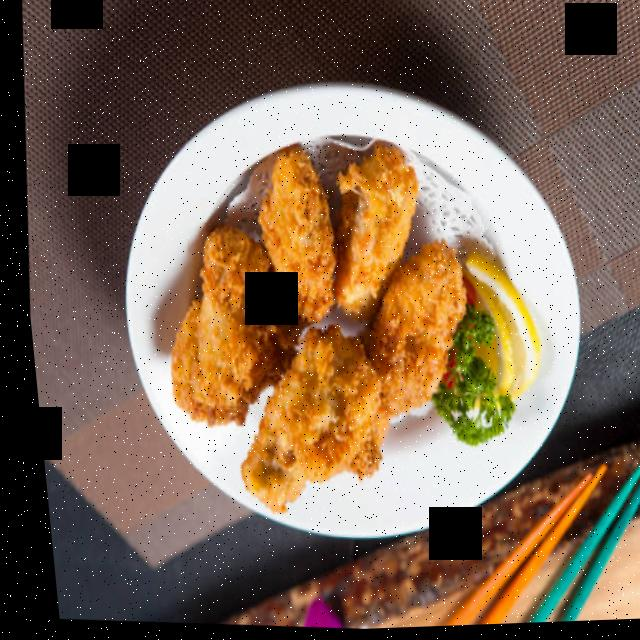Frango: (135, 128, 490, 534)
